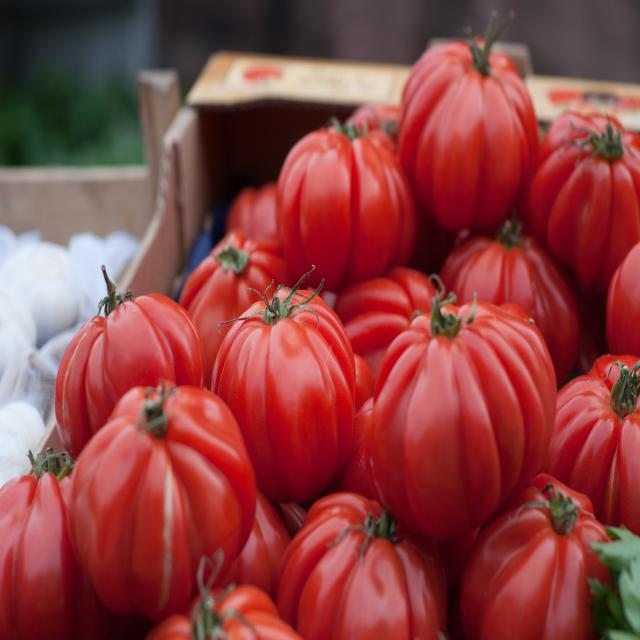Tomato: (76, 390, 264, 608), (375, 286, 560, 504), (390, 29, 549, 217), (270, 111, 418, 288)
